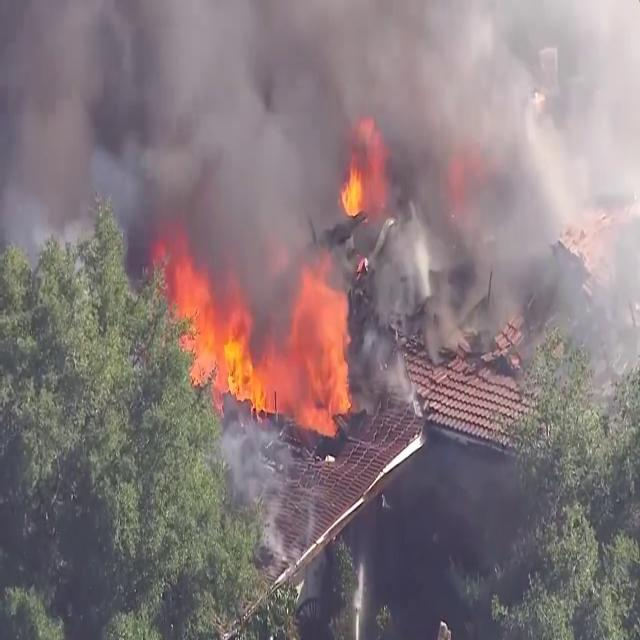Fire: (170, 253, 360, 424), (336, 157, 376, 221)
Smoke: (1, 0, 636, 378)
